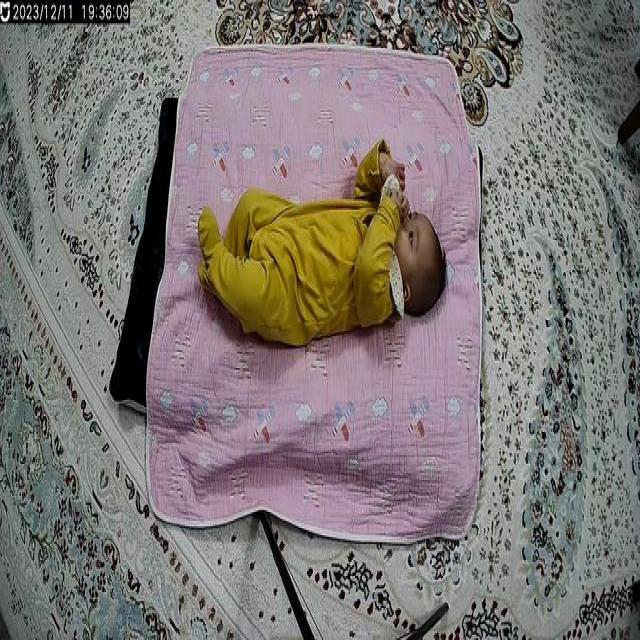baby: (194, 137, 451, 350)
